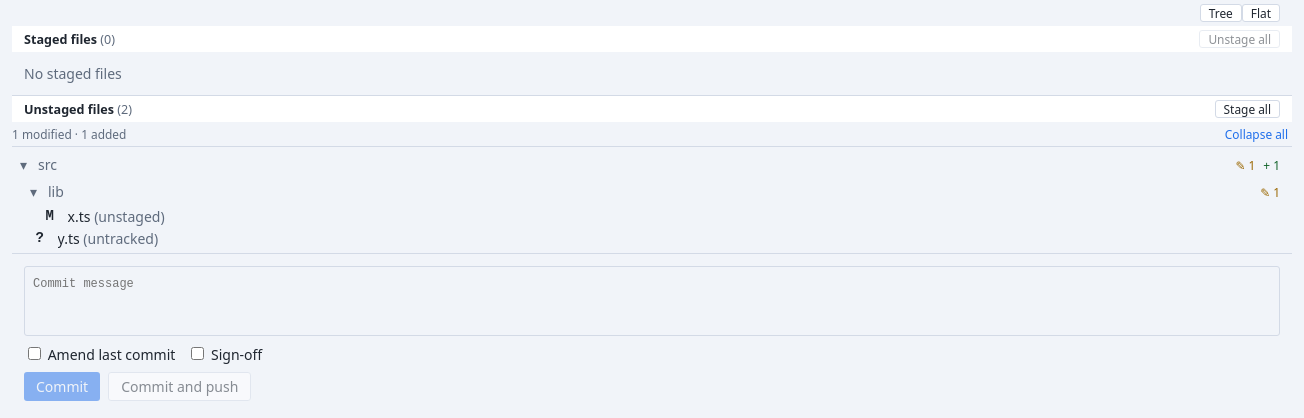
WipPane › Expand all / Collapse all and section summaries
Expected: the text "1 modified · 1 added" is shown, [12,126,126,142]
Expected: the button titled "src/lib/x.ts" is shown, [12,205,1292,227]
Click the button "Collapse all": click(1256, 134) [1221,126,1292,142]
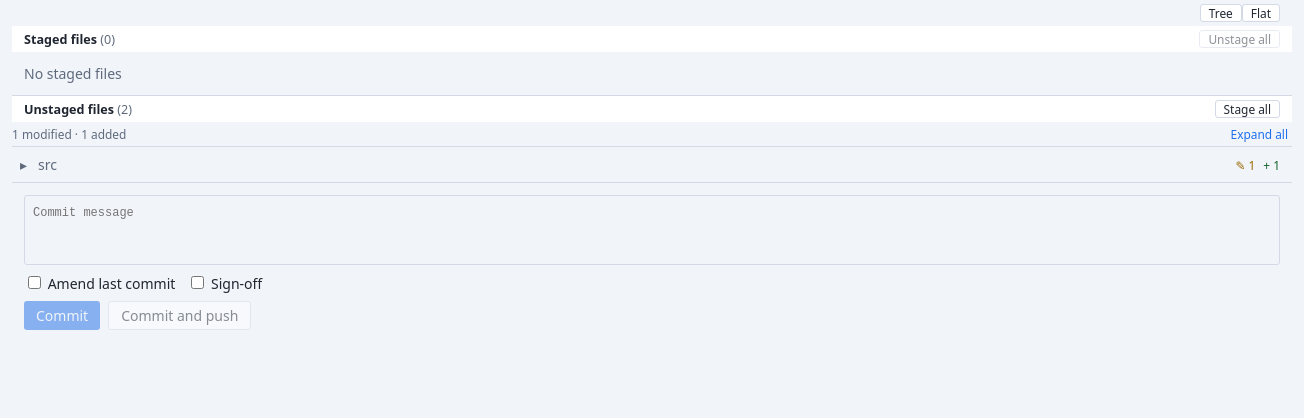
Expected: the button titled "src/lib" is gone
Click the button "Expand all": click(1259, 134) [1226,126,1292,142]
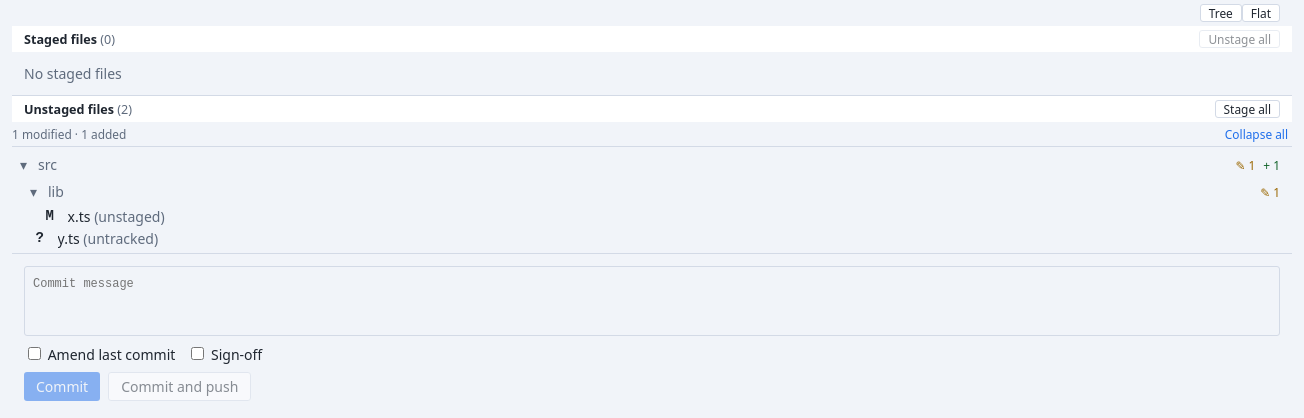
Expected: the button titled "src/lib/x.ts" is shown, [12,205,1292,227]
